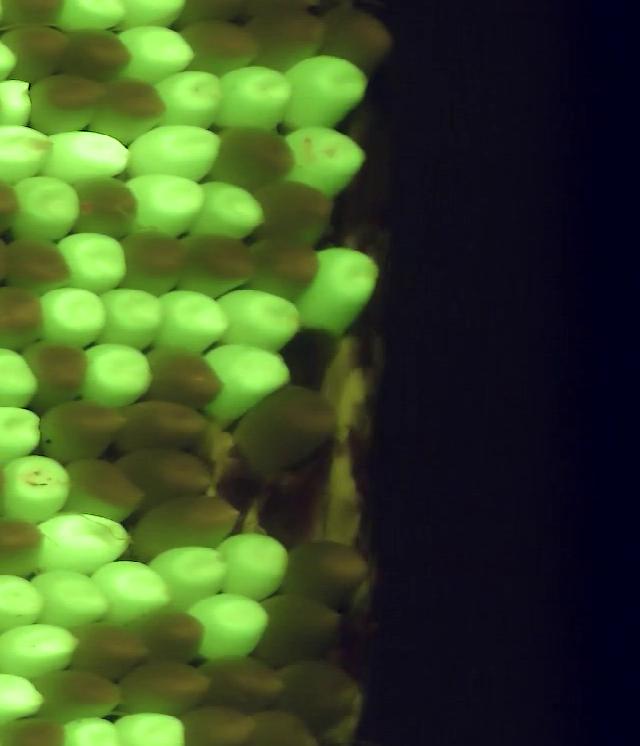fluorescent: (289, 241, 383, 340), (273, 48, 372, 134), (200, 335, 298, 418), (276, 118, 371, 197), (119, 168, 212, 248), (121, 116, 226, 186), (29, 508, 139, 574), (210, 284, 308, 357), (185, 588, 275, 665), (209, 58, 296, 136), (143, 538, 234, 612), (85, 555, 179, 625), (215, 523, 297, 603), (186, 175, 269, 250), (150, 285, 232, 360), (1, 172, 84, 246), (34, 126, 138, 185), (0, 449, 77, 527), (77, 339, 158, 411), (107, 23, 200, 85), (31, 280, 113, 350), (52, 229, 136, 297), (151, 63, 230, 133), (0, 617, 83, 683), (25, 566, 115, 626), (91, 283, 168, 347), (0, 117, 61, 187), (0, 568, 55, 637), (0, 401, 51, 468), (0, 341, 45, 416), (0, 670, 51, 732), (49, 1, 133, 38), (108, 1, 191, 34), (0, 75, 43, 132)
nonfluorescent: (233, 380, 343, 477), (126, 490, 247, 559), (263, 654, 366, 732), (278, 536, 380, 610), (114, 444, 220, 513), (252, 588, 346, 663), (24, 665, 133, 728), (207, 123, 302, 195), (248, 177, 339, 252), (172, 231, 267, 302), (56, 454, 149, 526), (139, 341, 230, 414), (112, 655, 217, 718), (32, 395, 130, 462), (243, 4, 336, 74), (112, 394, 216, 456), (64, 620, 158, 688), (87, 74, 172, 149), (15, 336, 98, 410), (241, 231, 325, 304), (173, 12, 267, 77), (22, 70, 113, 136), (193, 651, 286, 715), (64, 168, 144, 242), (54, 20, 139, 89), (316, 1, 394, 75), (0, 232, 80, 298), (131, 609, 211, 670), (0, 21, 75, 85), (116, 227, 187, 294), (176, 701, 268, 746), (0, 281, 53, 357), (0, 512, 53, 580), (244, 707, 322, 746), (0, 1, 73, 36), (0, 712, 71, 746)
